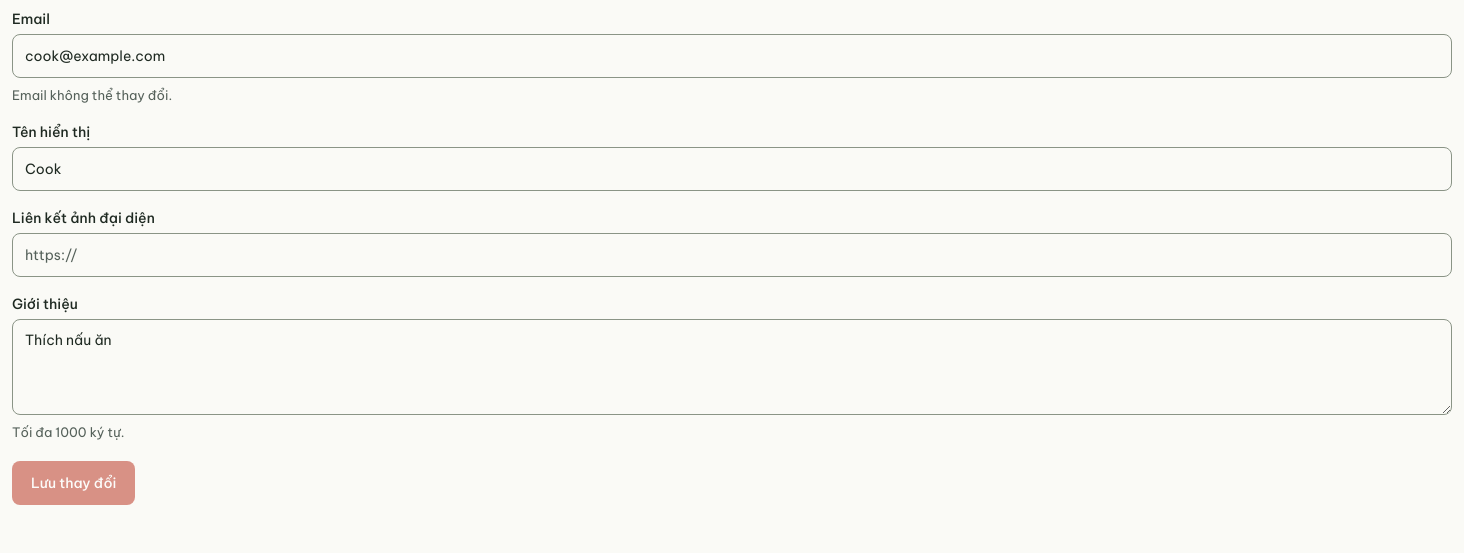
ProfileForm › shows the server's field error for an invalid avatar URL
Type "https://a.example.com/x.png" into the field labelled "Liên kết ảnh đại diện" at [732, 255], box [12, 233, 1452, 277]
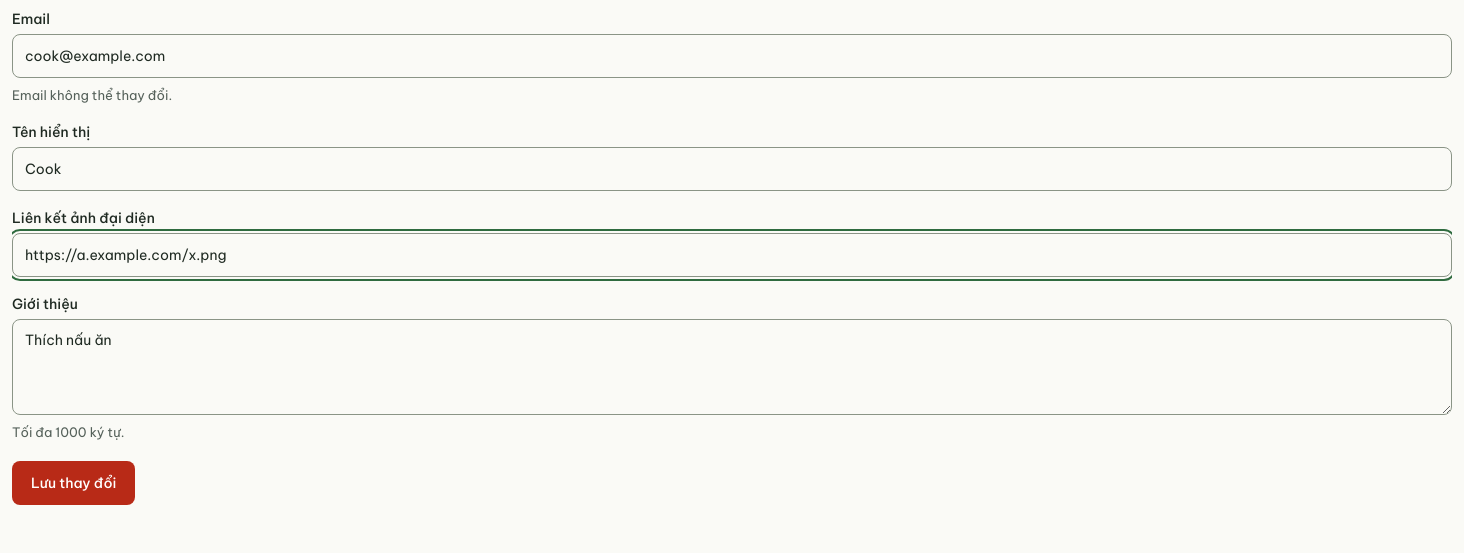
Click the button "Lưu thay đổi" at [74, 483], box [12, 461, 135, 505]
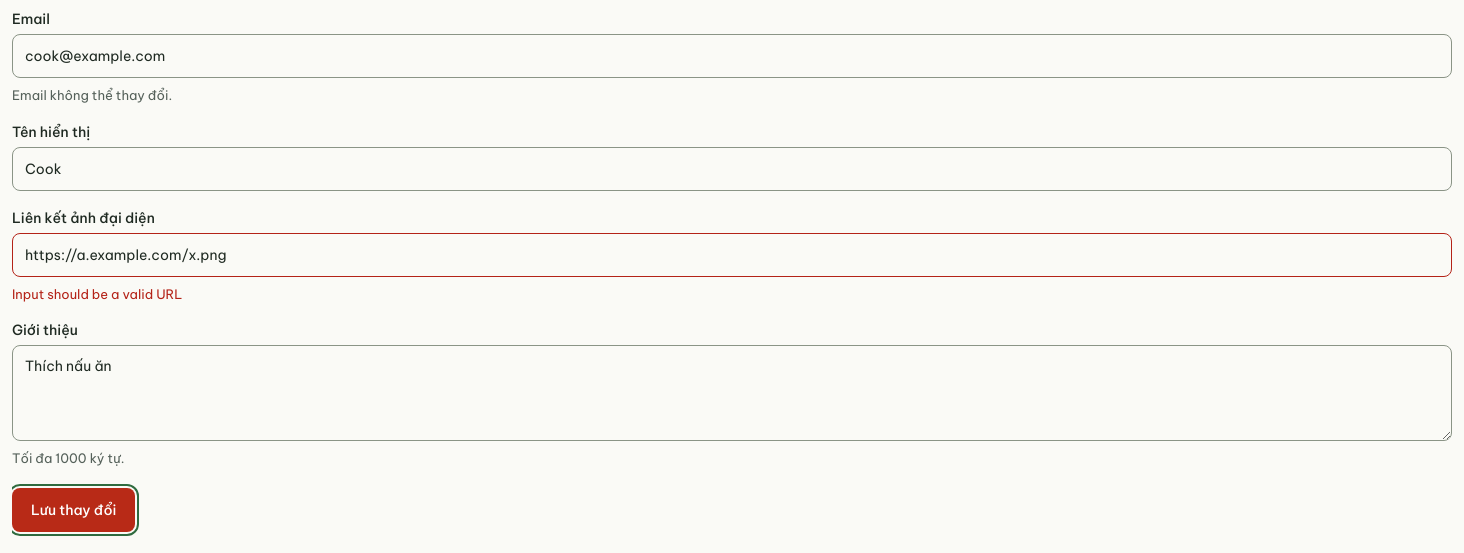
Expected: the text "Input should be a valid URL" is shown, [12, 286, 182, 302]
